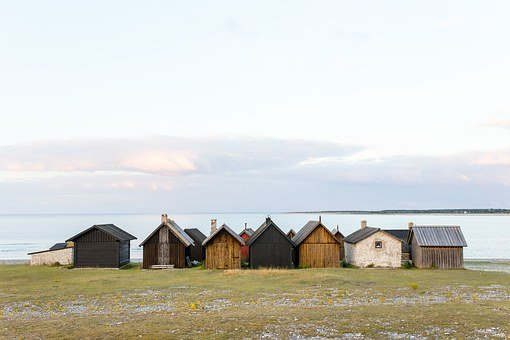field: (3, 263, 510, 339)
house: (76, 221, 471, 268)
sky: (5, 1, 504, 199)
